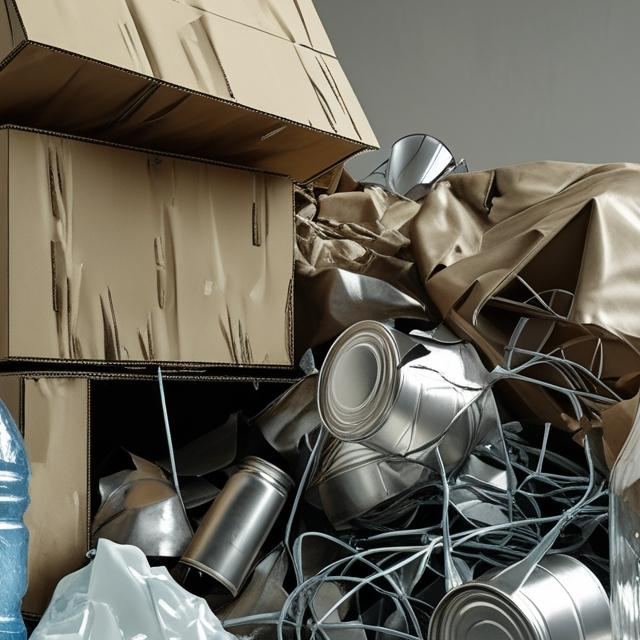metal: (450, 557, 603, 640)
